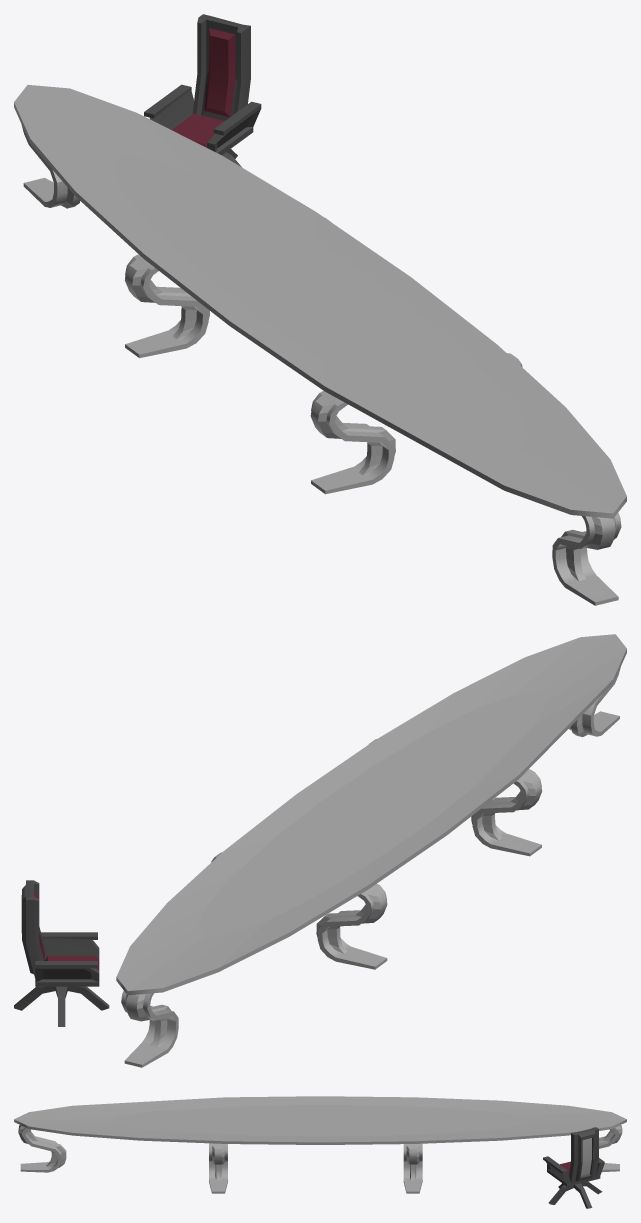
File: SM_table_and_chairs 1.fbx
3 views of the same model, one above another, from view 1: azimuth 30°, elevation 25°; view 2: azimuth 150°, elevation 25°; view 3: azimuth 270°, elevation 25° (orthographic). The views are drawn at different scales.
Parts seen in each view (by area): view 1: polySurface10, polySurface9; view 2: polySurface10, polySurface9; view 3: polySurface10, polySurface9.
Boxes of the visible parts, <box> form: polySurface10: <box>14,85,626,605</box>; polySurface9: <box>144,14,261,167</box>; polySurface10: <box>116,634,626,1067</box>; polySurface9: <box>14,880,109,1026</box>; polySurface10: <box>14,1096,626,1193</box>; polySurface9: <box>543,1127,604,1208</box>.
Size of the model in its own units: 20.73 by 10.58 by 75.85.
